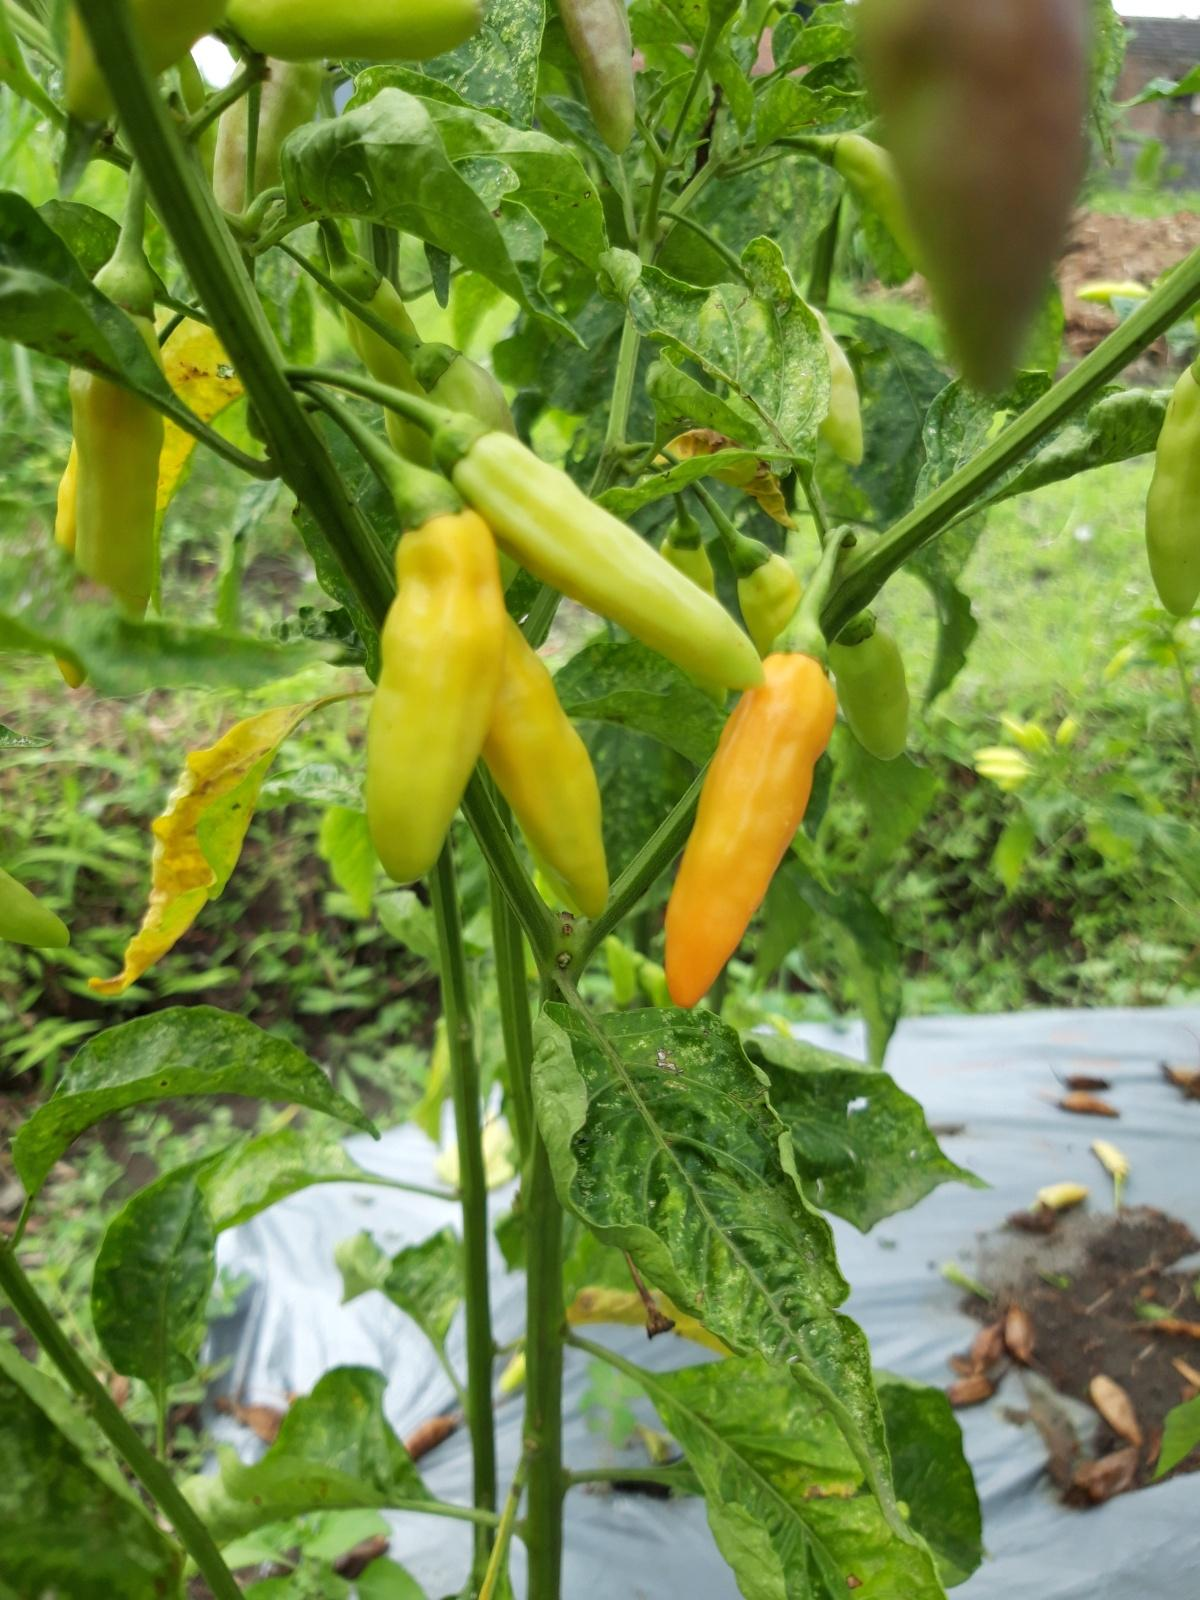cabai_normal: (464, 428, 768, 684), (662, 653, 833, 1009), (371, 505, 500, 882), (487, 616, 614, 921), (69, 296, 160, 615), (1145, 365, 1200, 625), (834, 132, 933, 276), (223, 9, 494, 55), (841, 632, 910, 762)
lalat_buah: (563, 0, 642, 150)
